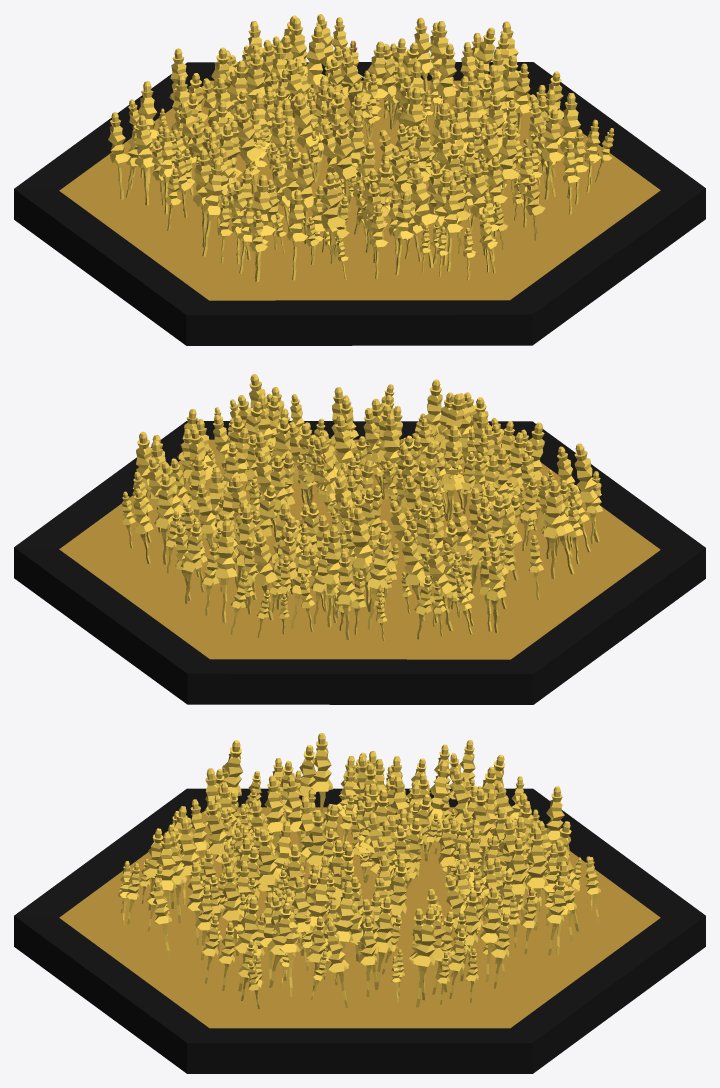
File: Tile_Grain.fbx
The picture shows the model from 3 angles, top to bottom: view 1: azimuth 30°, elevation 25°; view 2: azimuth 150°, elevation 25°; view 3: azimuth 270°, elevation 25°; orthographic projection.
Parts seen in each view (by area): view 1: Grain Tile; view 2: Grain Tile; view 3: Grain Tile.
Boxes of the visible parts, x1,y1,x2,y2 form: Grain Tile: (14,14,705,345); Grain Tile: (14,374,705,704); Grain Tile: (14,733,705,1073).
Size of the model in its own units: 200 by 47.82 by 230.
